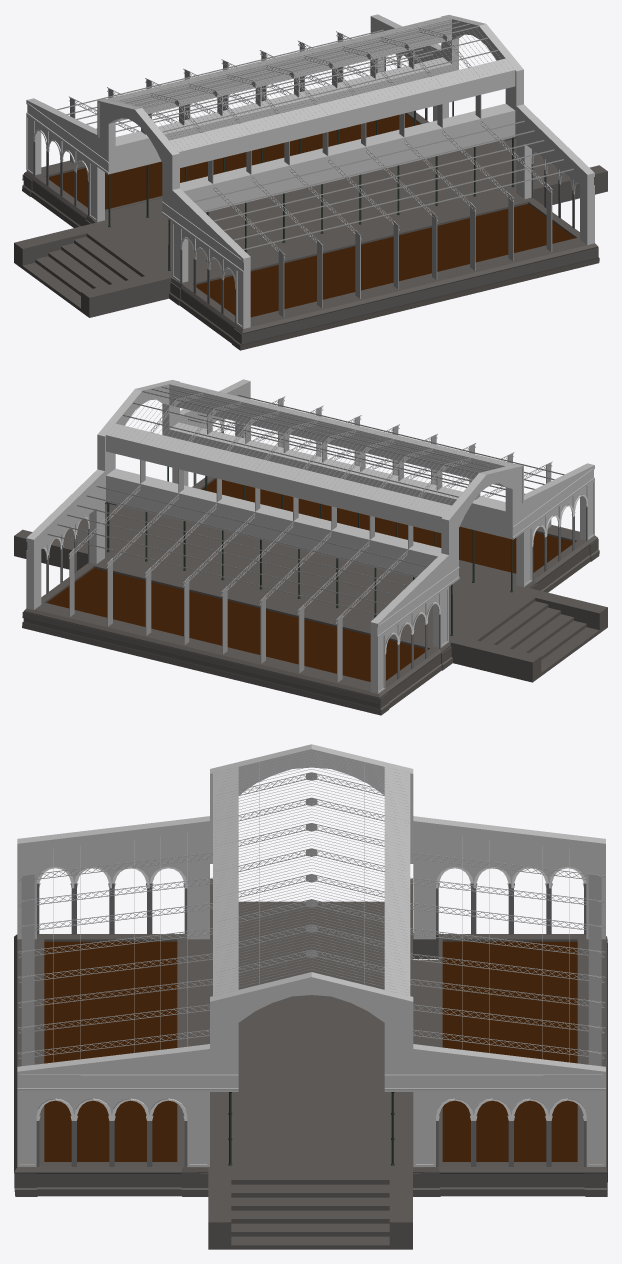
The model's file is staklenikApplied.fbx.
The picture shows the model from 3 angles, top to bottom: view 1: azimuth 30°, elevation 25°; view 2: azimuth 150°, elevation 25°; view 3: azimuth 270°, elevation 25°; orthographic projection. The views are drawn at different scales.
Visible parts, largest first — view 1: glavni nosac; view 2: glavni nosac; view 3: glavni nosac.
Part boxes in pixels (<box>): glavni nosac: <box>14,14,607,350</box>; glavni nosac: <box>14,379,607,715</box>; glavni nosac: <box>14,744,607,1249</box>.
Size of the model in its own units: 62352 by 18403 by 45570.
